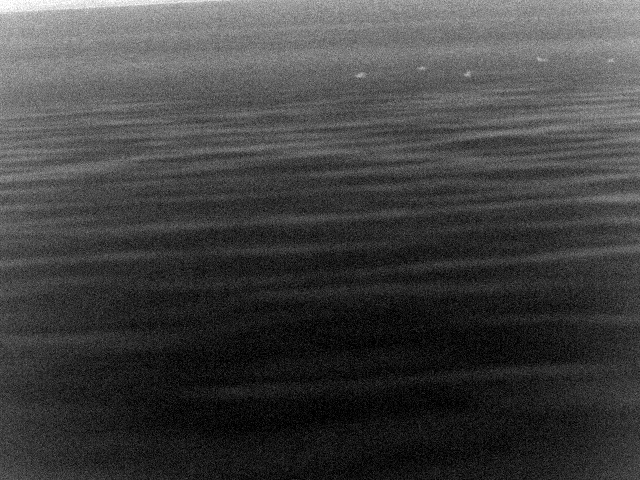dim target: (535, 56, 549, 63), (354, 71, 366, 79), (462, 69, 472, 78), (416, 64, 427, 71), (607, 57, 615, 63)
